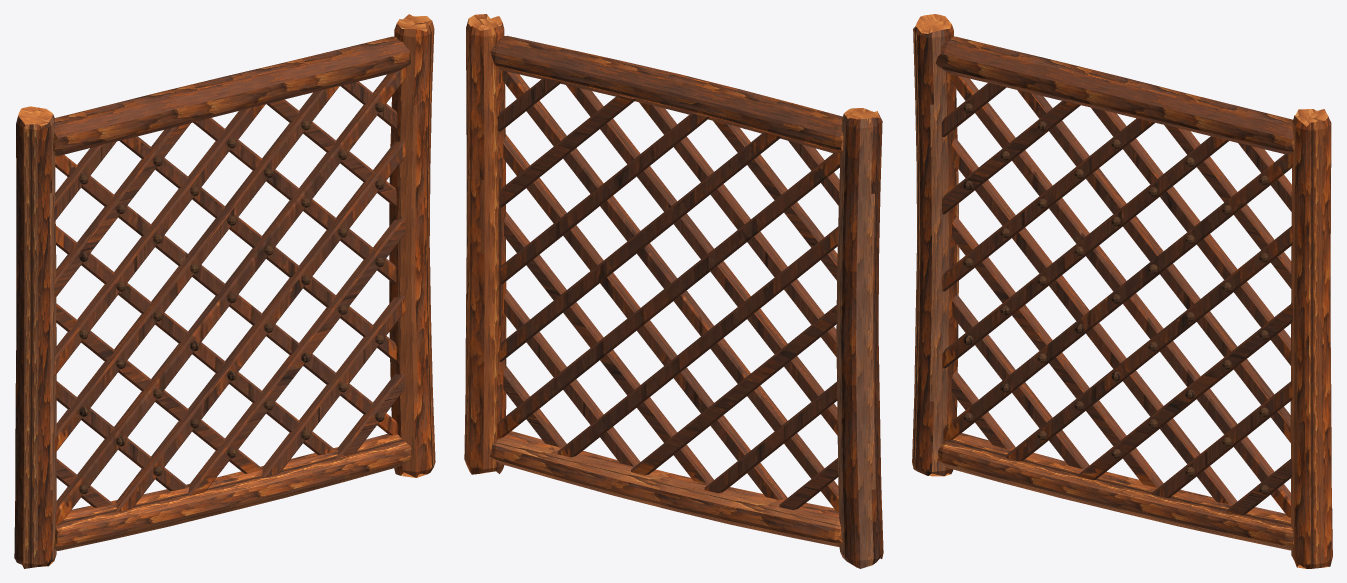
File: lattice_wall__plank_root.glb
3 views of the same model, side by side, from view 1: azimuth 30°, elevation 25°; view 2: azimuth 150°, elevation 25°; view 3: azimuth 330°, elevation 25° (orthographic).
Visible parts, largest first — view 1: model; view 2: model; view 3: model.
Part boxes in pixels (x1=…): model: x1=14, y1=14, x2=435, y2=568; model: x1=464, y1=14, x2=883, y2=568; model: x1=912, y1=14, x2=1332, y2=568.
Bounding box in the file's own units: 1.91 × 1.98 × 0.1834.
13 materials, 13 textured.
